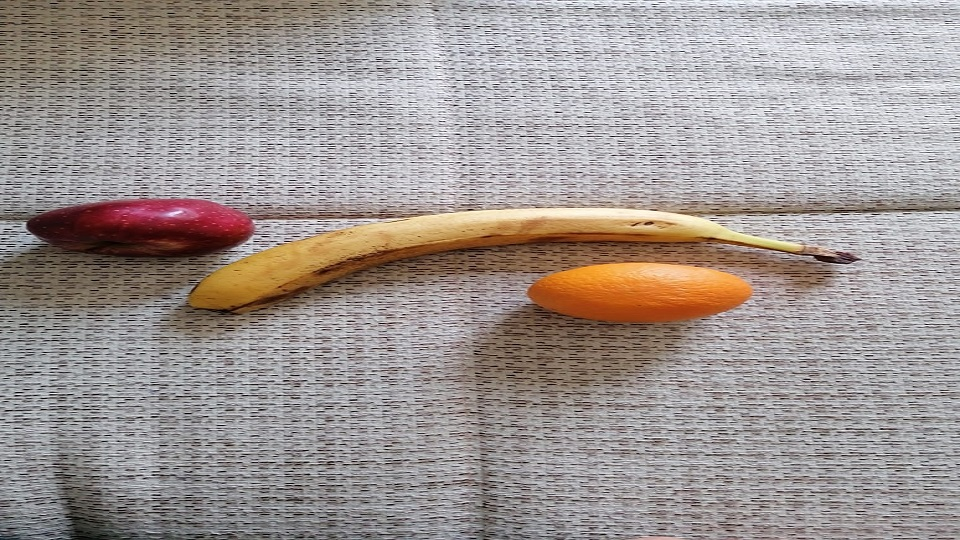elma: (27, 197, 257, 257)
muz: (186, 206, 859, 318)
portakal: (527, 261, 754, 323)
